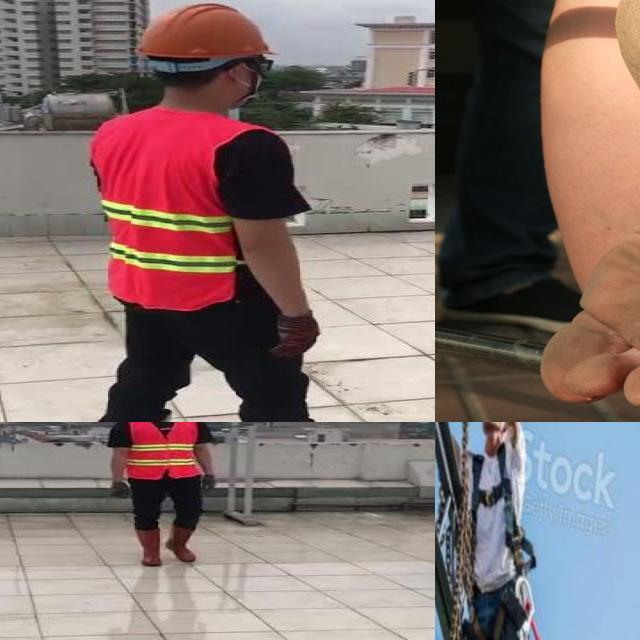Barefoots: (538, 0, 640, 408)
Harness: (472, 445, 529, 572)
boots: (163, 524, 199, 565), (135, 530, 163, 568)
hand_glove: (270, 314, 320, 357), (107, 482, 133, 500), (199, 474, 217, 494)
head_helmet: (128, 0, 281, 63)
person: (72, 0, 358, 422), (103, 422, 228, 569)
vest: (87, 110, 245, 310), (126, 422, 199, 476)
